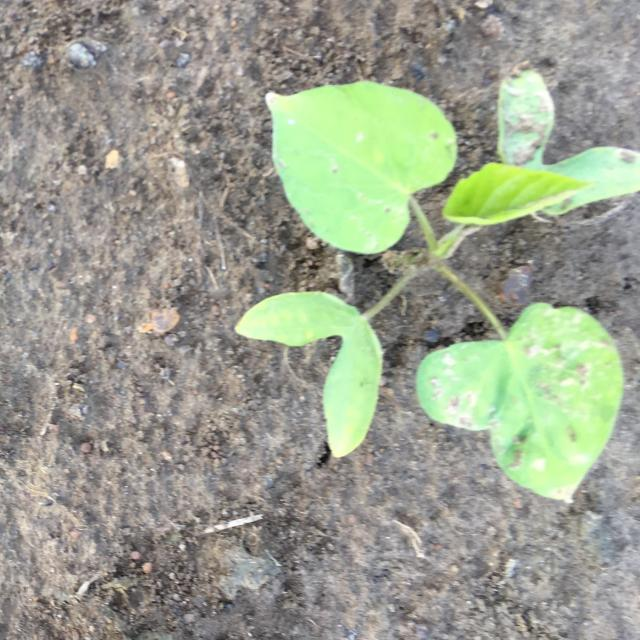MorningGlory: (234, 68, 640, 500)
